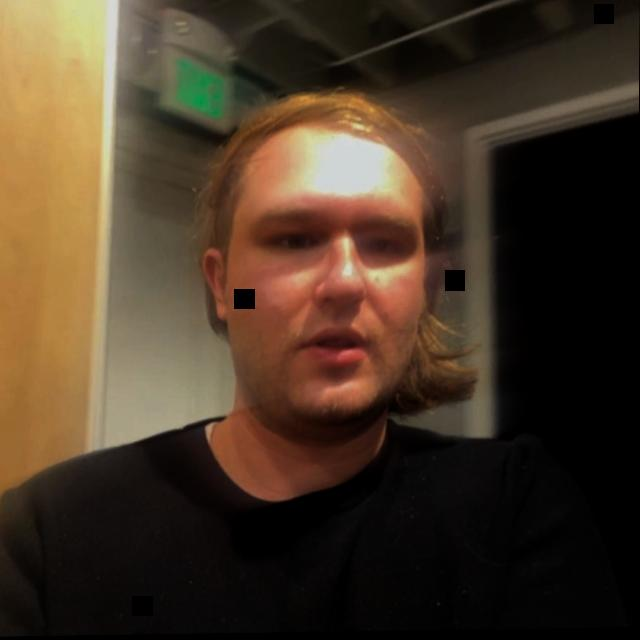NO-Mask: (200, 86, 477, 527)
